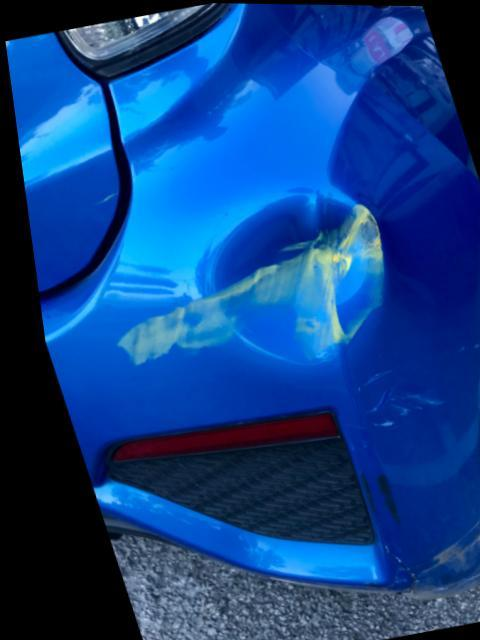crack: (368, 542, 401, 596)
dent: (194, 193, 373, 364)
scratch: (346, 365, 432, 427), (415, 500, 480, 572), (347, 468, 388, 523)
